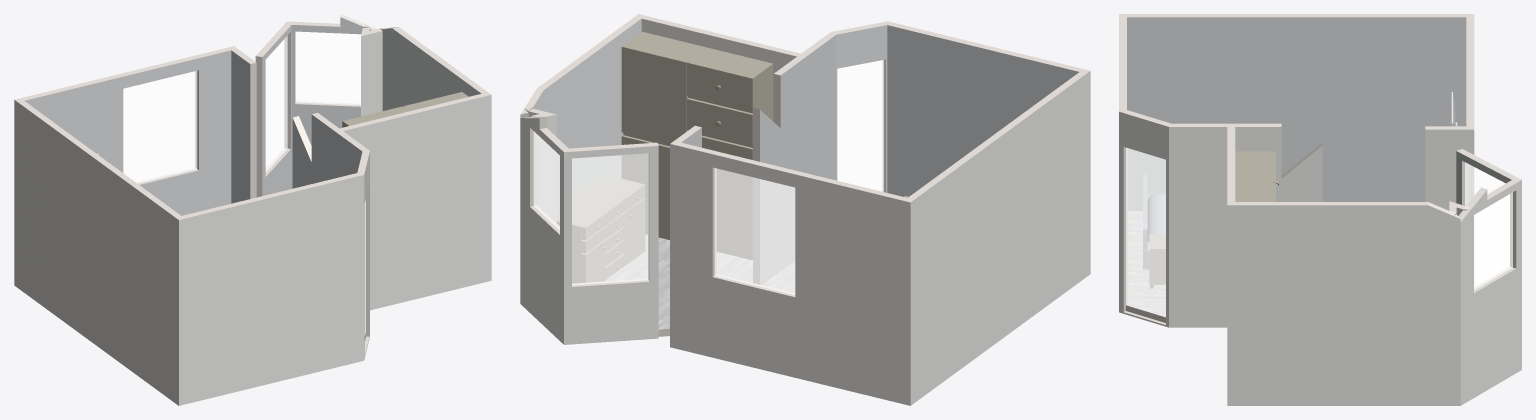
File: room1.glb
3 views of the same model, side by side, from view 1: azimuth 30°, elevation 25°; view 2: azimuth 150°, elevation 25°; view 3: azimuth 270°, elevation 25° (orthographic). The views are drawn at different scales.
Visible parts, largest first — view 1: wall_9, wall_1, wall_2, wall_21, window_2, window_5, window_1, window_4, wall_23, wall_41, window_0, window_3 (+18 smaller); view 2: wall_3, wall_1, storage_cabinet_tall20, wall_33, window_0, window_3, window_2, window_5, wall_8, wall_23, wall_37, storage_cabinet_mid30 (+20 smaller); view 3: wall_17, wall_4, wall_6, wall_10, door_0, door_2, wall_7, wall_11, wall_13, window_1, window_4, floor_Bedroom_0 (+17 smaller).
Part boxes in pixels (bbox=[...]): wall_9: bbox=[179, 175, 364, 405]; wall_1: bbox=[14, 100, 178, 405]; wall_2: bbox=[343, 95, 491, 310]; wall_21: bbox=[24, 50, 231, 215]; window_2: bbox=[123, 71, 196, 183]; window_5: bbox=[123, 71, 196, 183]; window_1: bbox=[295, 32, 360, 104]; window_4: bbox=[295, 32, 360, 104]; wall_23: bbox=[382, 28, 481, 110]; wall_41: bbox=[231, 50, 250, 203]; window_0: bbox=[266, 36, 287, 171]; window_3: bbox=[266, 36, 287, 171]; wall_3: bbox=[670, 144, 910, 405]; wall_1: bbox=[910, 71, 1090, 405]; storage_cabinet_tall20: bbox=[621, 31, 773, 259]; wall_33: bbox=[887, 25, 1078, 196]; window_0: bbox=[572, 153, 648, 284]; window_3: bbox=[572, 153, 648, 284]; window_2: bbox=[715, 168, 794, 294]; window_5: bbox=[715, 168, 794, 294]; wall_8: bbox=[564, 146, 658, 344]; wall_23: bbox=[533, 19, 641, 207]; wall_37: bbox=[760, 57, 805, 284]; storage_cabinet_mid30: bbox=[557, 174, 644, 283]; wall_17: bbox=[1127, 17, 1466, 210]; wall_4: bbox=[1227, 205, 1452, 405]; wall_6: bbox=[1169, 127, 1227, 327]; wall_10: bbox=[1471, 180, 1521, 399]; door_0: bbox=[1126, 148, 1165, 316]; door_2: bbox=[1126, 148, 1165, 316]; wall_7: bbox=[1119, 111, 1168, 327]; wall_11: bbox=[1235, 127, 1322, 201]; wall_13: bbox=[1425, 129, 1474, 210]; window_1: bbox=[1474, 192, 1512, 289]; window_4: bbox=[1474, 193, 1512, 289]; floor_Bedroom_0: bbox=[1126, 211, 1165, 316].
Bounding box in the file's own units: 5.74 × 2.81 × 5.11.
Materials: 41 (2 with a texture image).
